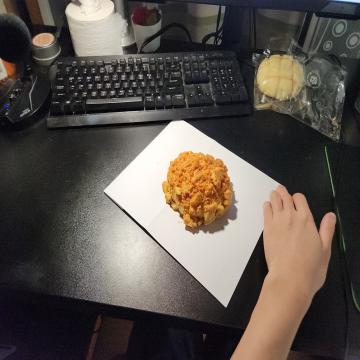soboru_bread: (161, 152, 234, 232)
